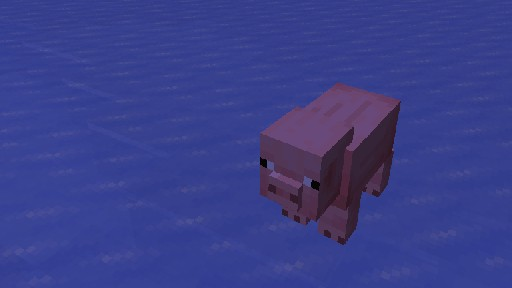pig: (259, 82, 401, 245)
